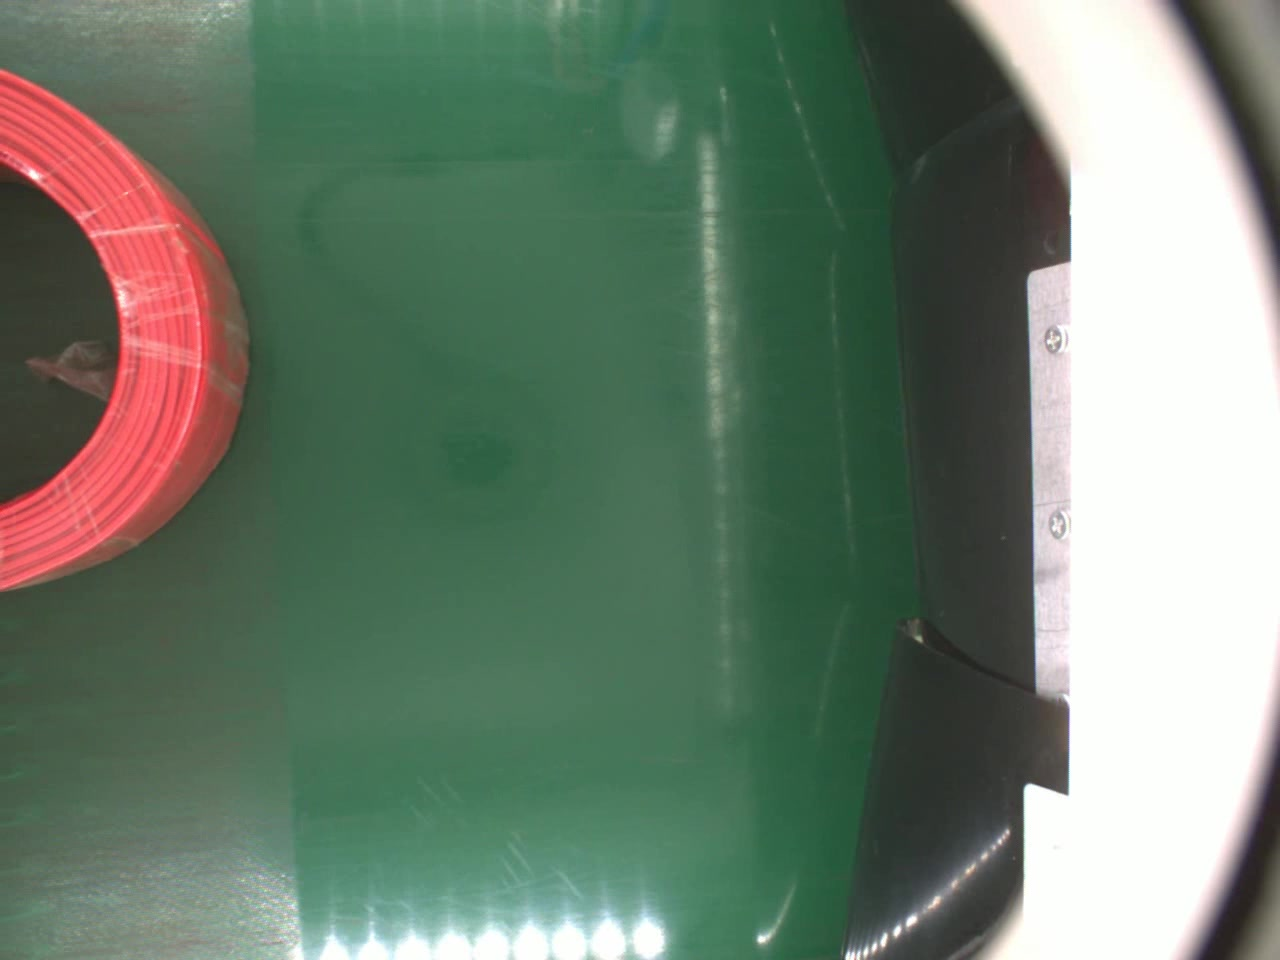red: (0, 69, 249, 594)
